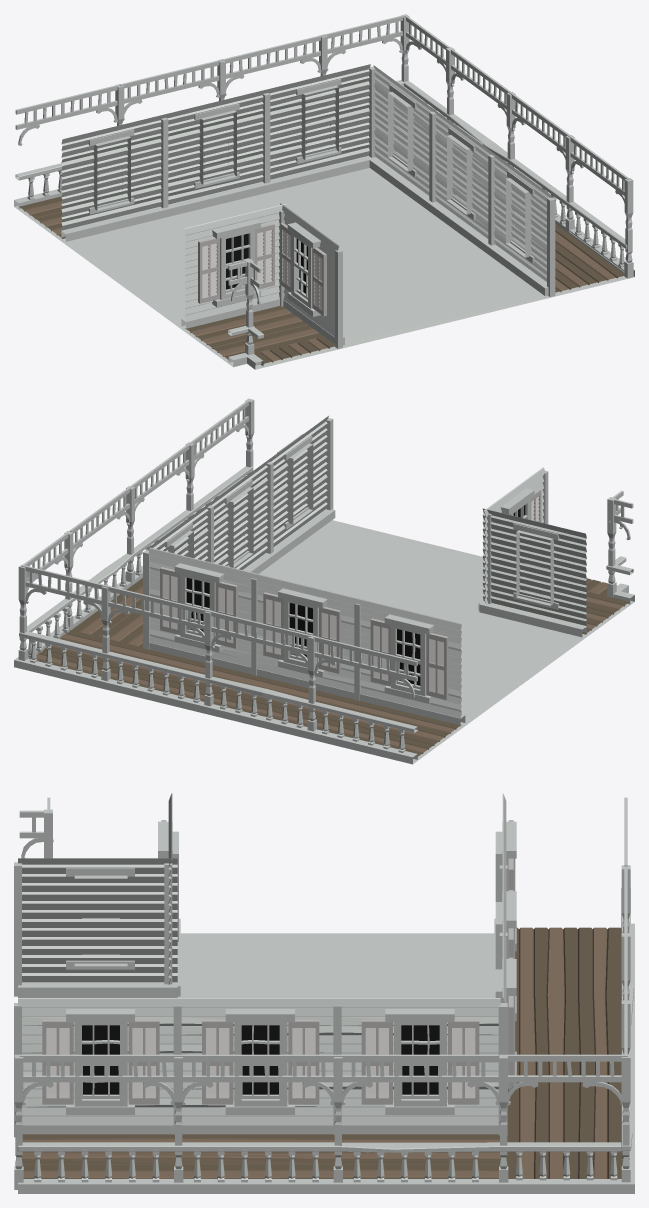
The model's file is SM_Bld_Mansion_Corner_02.glb.
3 renders of one model, top to bottom at view 1: azimuth 30°, elevation 25°; view 2: azimuth 150°, elevation 25°; view 3: azimuth 270°, elevation 25°, orthographic. The views are drawn at different scales.
Parts seen in each view (by area): view 1: SM_Bld_Mansion_Corner_02_part00; view 2: SM_Bld_Mansion_Corner_02_part00; view 3: SM_Bld_Mansion_Corner_02_part00.
Boxes of the visible parts, <box> form: SM_Bld_Mansion_Corner_02_part00: <box>14,14,634,369</box>; SM_Bld_Mansion_Corner_02_part00: <box>14,398,634,764</box>; SM_Bld_Mansion_Corner_02_part00: <box>14,793,634,1193</box>.
Size of the model in its own units: 11.62 by 2.9 by 11.67.
Materials: 1 (1 with a texture image).
